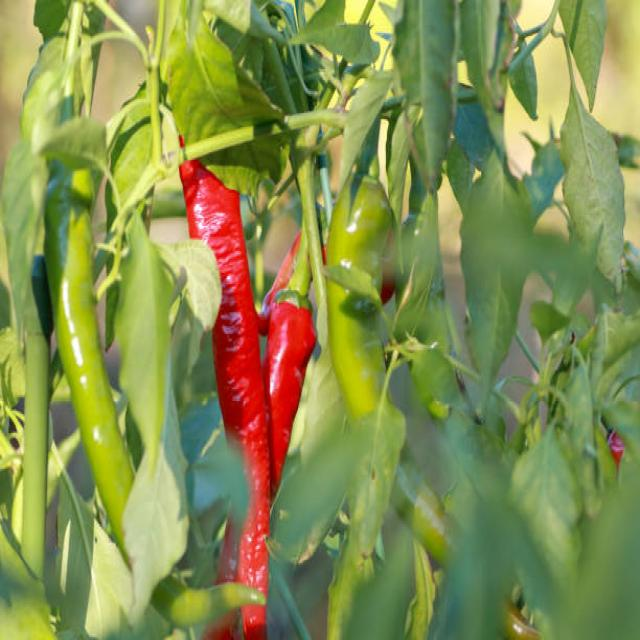Ripe: (180, 160, 271, 640), (264, 236, 319, 500)
Unripe: (42, 169, 133, 544), (327, 176, 392, 420)
